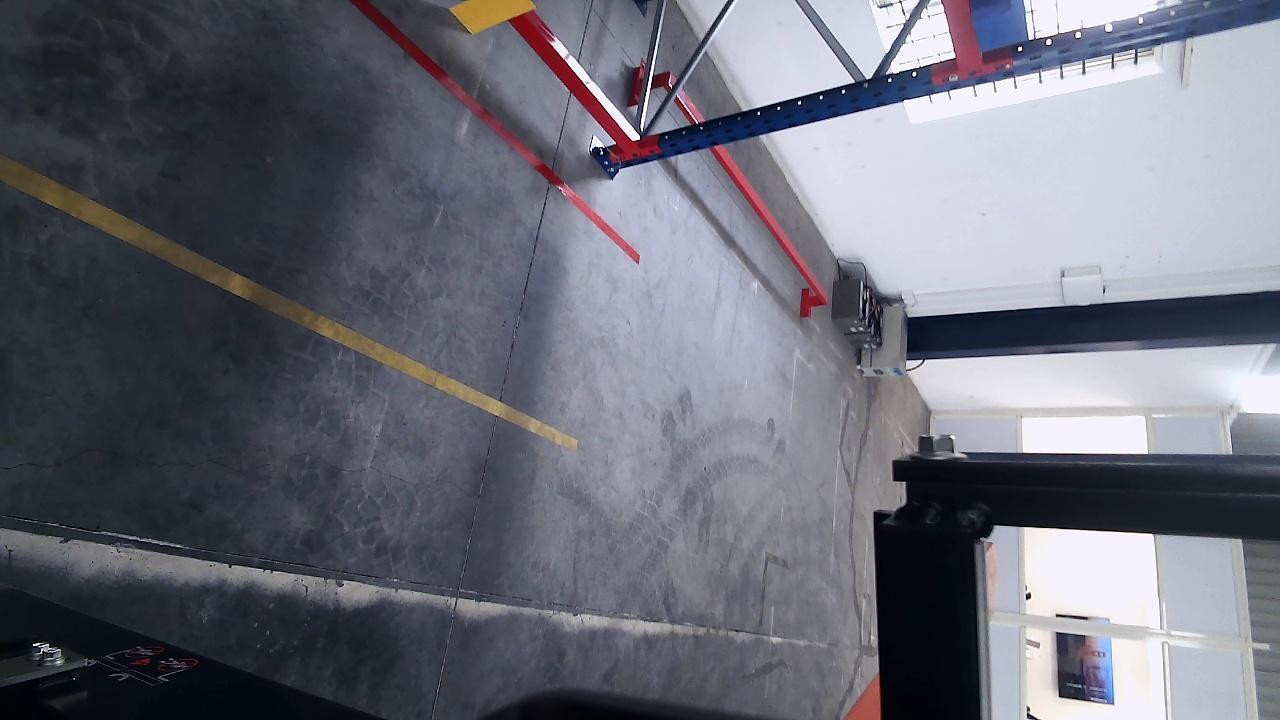red_line: (346, 0, 641, 264)
